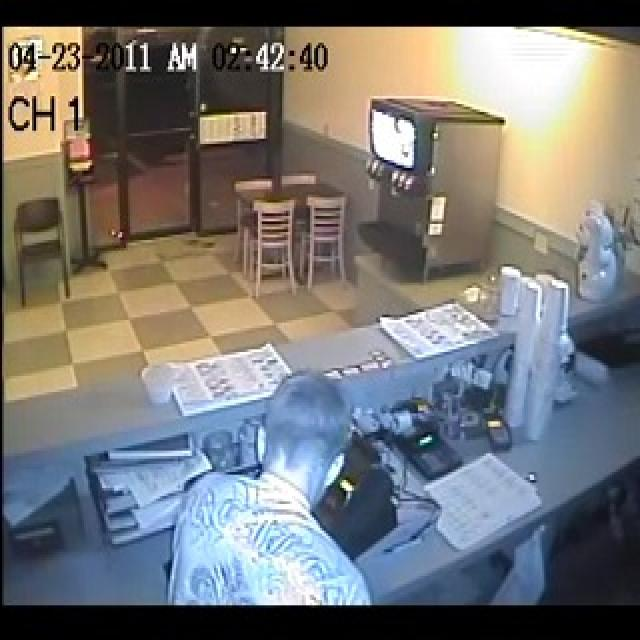thief: (160, 360, 373, 610)
